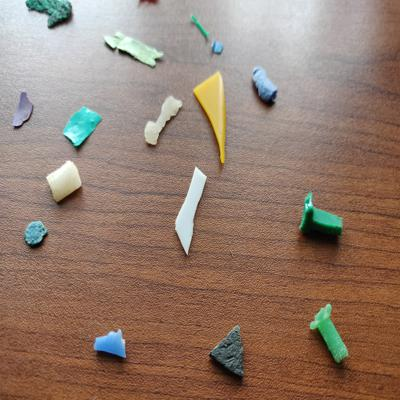plastic: (169, 162, 211, 262), (302, 301, 361, 365), (191, 67, 228, 165), (296, 187, 346, 249), (102, 27, 165, 70), (140, 91, 183, 148), (207, 321, 247, 381), (21, 1, 81, 34), (62, 105, 105, 151), (44, 159, 84, 201), (250, 64, 281, 109), (92, 325, 130, 360), (10, 88, 38, 133), (19, 220, 56, 248), (186, 13, 211, 45), (211, 39, 228, 56)
